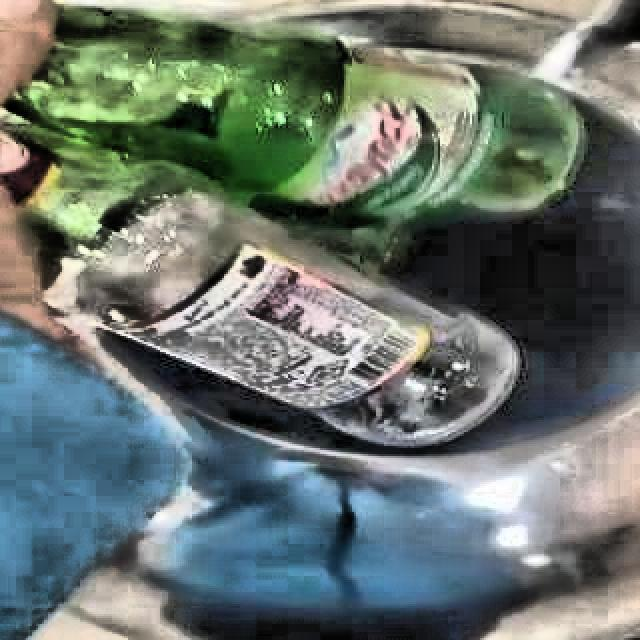glass: (0, 7, 584, 447)
